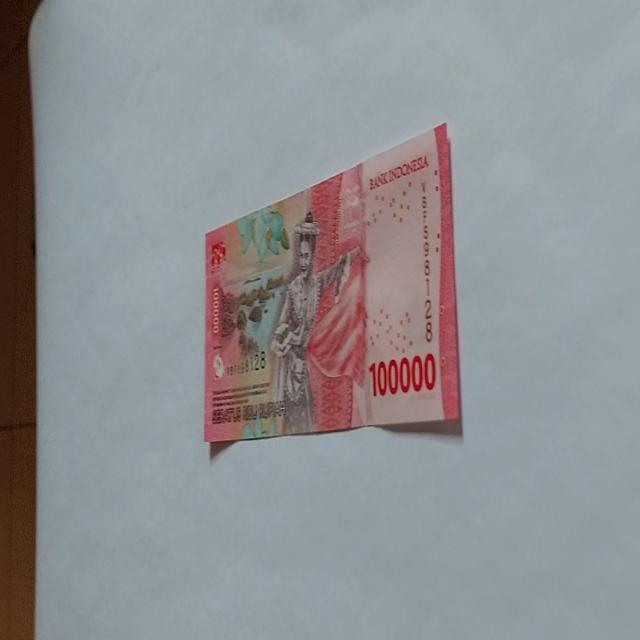seratus ribu rupiah: (202, 120, 462, 443), (268, 210, 360, 434)
